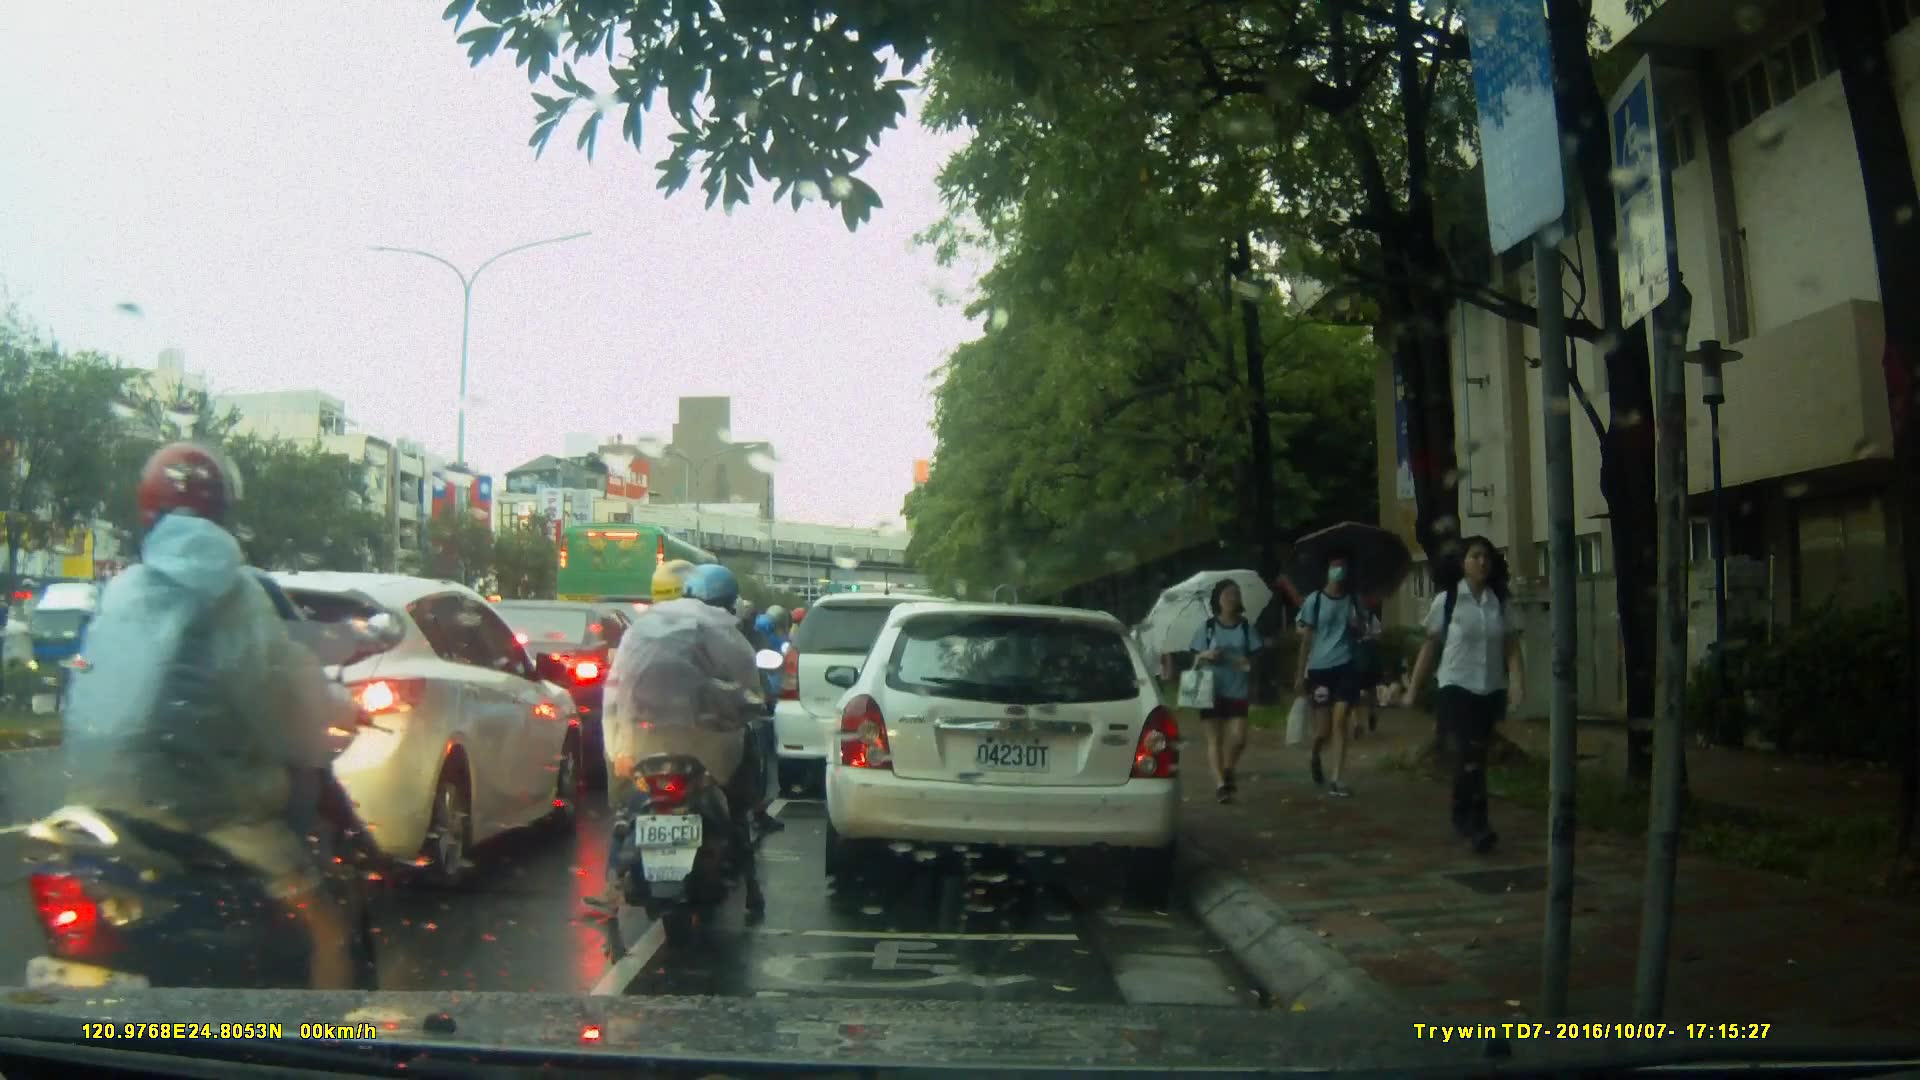pedestrian: (1413, 524, 1535, 858), (1286, 549, 1372, 804), (1187, 576, 1266, 810), (1132, 603, 1174, 743)
rider: (4, 440, 394, 1048), (583, 559, 782, 928), (651, 583, 760, 827)
vehicle: (93, 569, 587, 883), (822, 604, 1186, 882), (774, 595, 995, 802), (554, 519, 739, 666), (20, 576, 199, 697)
